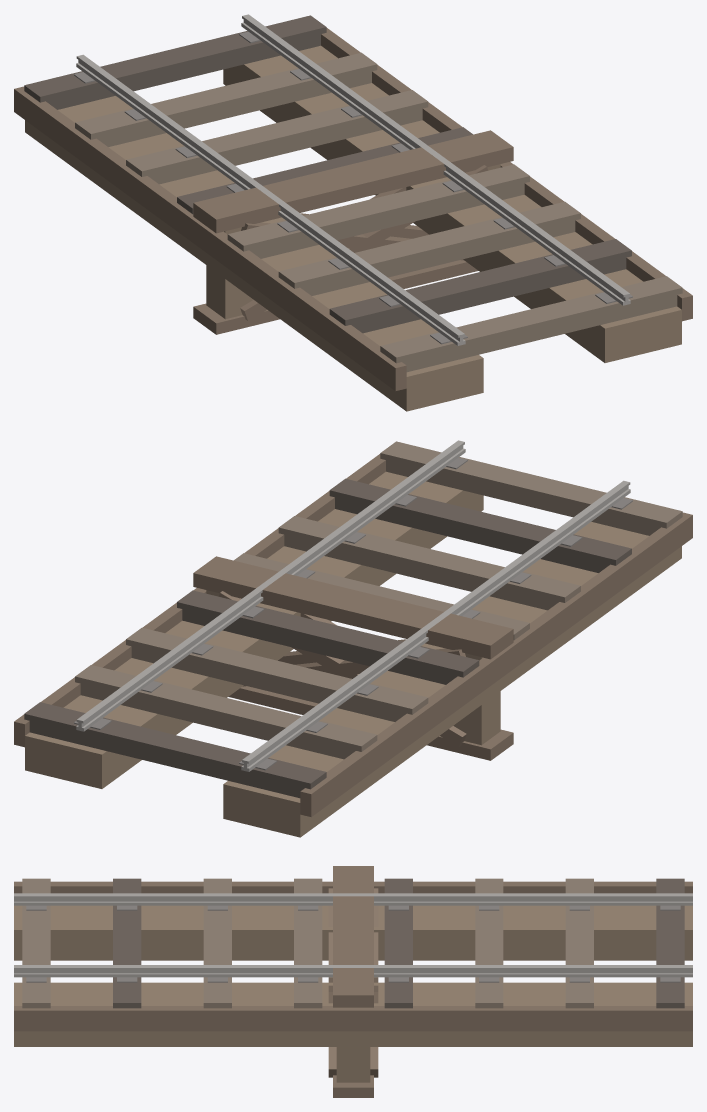
Rendered from trestle_deck.glb.
3 views of the same model, one above another, from view 1: azimuth 30°, elevation 25°; view 2: azimuth 150°, elevation 25°; view 3: azimuth 270°, elevation 25° (orthographic). The views are drawn at different scales.
Visible parts, largest first — view 1: td_deck_mesh, td_bent_mesh; view 2: td_deck_mesh, td_bent_mesh; view 3: td_deck_mesh, td_bent_mesh.
Boxes of the visible parts, x1,y1,x2,y2 form: td_deck_mesh: [14, 14, 692, 411]; td_bent_mesh: [193, 130, 513, 334]; td_deck_mesh: [14, 440, 692, 837]; td_bent_mesh: [193, 556, 513, 760]; td_deck_mesh: [14, 878, 692, 1046]; td_bent_mesh: [328, 866, 378, 1097].
Size of the model in its own units: 2.7 by 1 by 6.
